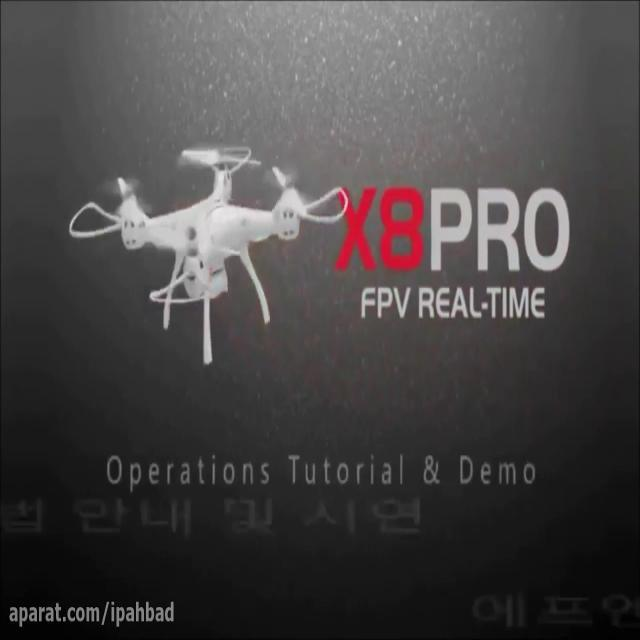drone: (68, 146, 350, 367)
